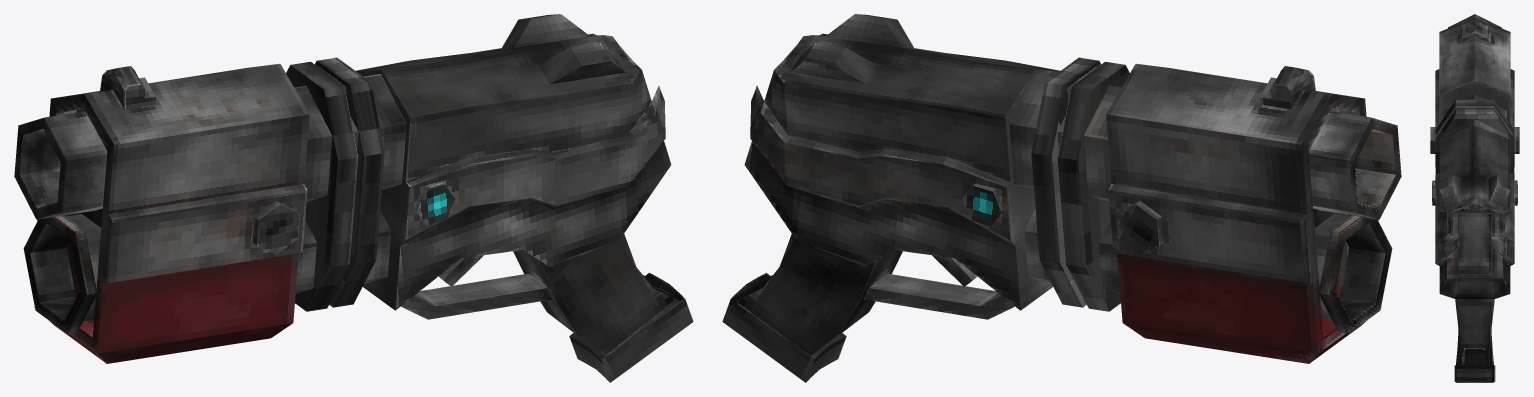
File: 3d_retro_gun_model_-_free_download.glb
The picture shows the model from 3 angles, left to right: view 1: azimuth 30°, elevation 25°; view 2: azimuth 150°, elevation 25°; view 3: azimuth 270°, elevation 25°; orthographic projection. The views are drawn at different scales.
Visible parts, largest first — view 1: Cube_2, Cube.003_8, Cube.001_7, Cylinder_3, Cylinder.001_4, Cylinder.005_5, Cylinder.006_6, Cube.004_9; view 2: Cube_2, Cube.003_8, Cube.001_7, Cylinder_3, Cylinder.001_4, Cylinder.005_5, Cylinder.006_6, Cube.004_9; view 3: Cube_2, Cube.003_8, Cube.001_7, Cylinder.005_5, Cylinder_3.
Part boxes in pixels (x1,y1,x2,y2): Cube_2: (355,14,693,382); Cube.003_8: (34,63,309,363); Cube.001_7: (286,57,384,311); Cylinder_3: (14,111,107,219); Cylinder.001_4: (23,214,101,333); Cylinder.005_5: (294,74,406,201); Cylinder.006_6: (295,210,391,293); Cube.004_9: (438,255,483,286); Cube_2: (722,14,1060,382); Cube.003_8: (1106,63,1381,363); Cube.001_7: (1031,57,1129,311); Cylinder_3: (1308,111,1401,219); Cylinder.001_4: (1314,214,1392,333); Cylinder.005_5: (1009,74,1121,201); Cylinder.006_6: (1024,210,1120,293); Cube.004_9: (932,255,977,286); Cube_2: (1432,126,1517,382); Cube.003_8: (1430,17,1519,166); Cube.001_7: (1435,99,1514,174); Cylinder.005_5: (1443,95,1506,137); Cylinder_3: (1448,14,1501,28).
Bounding box in the file's own units: 3.42 × 2.13 × 0.7346.
2 materials, 2 textured.
